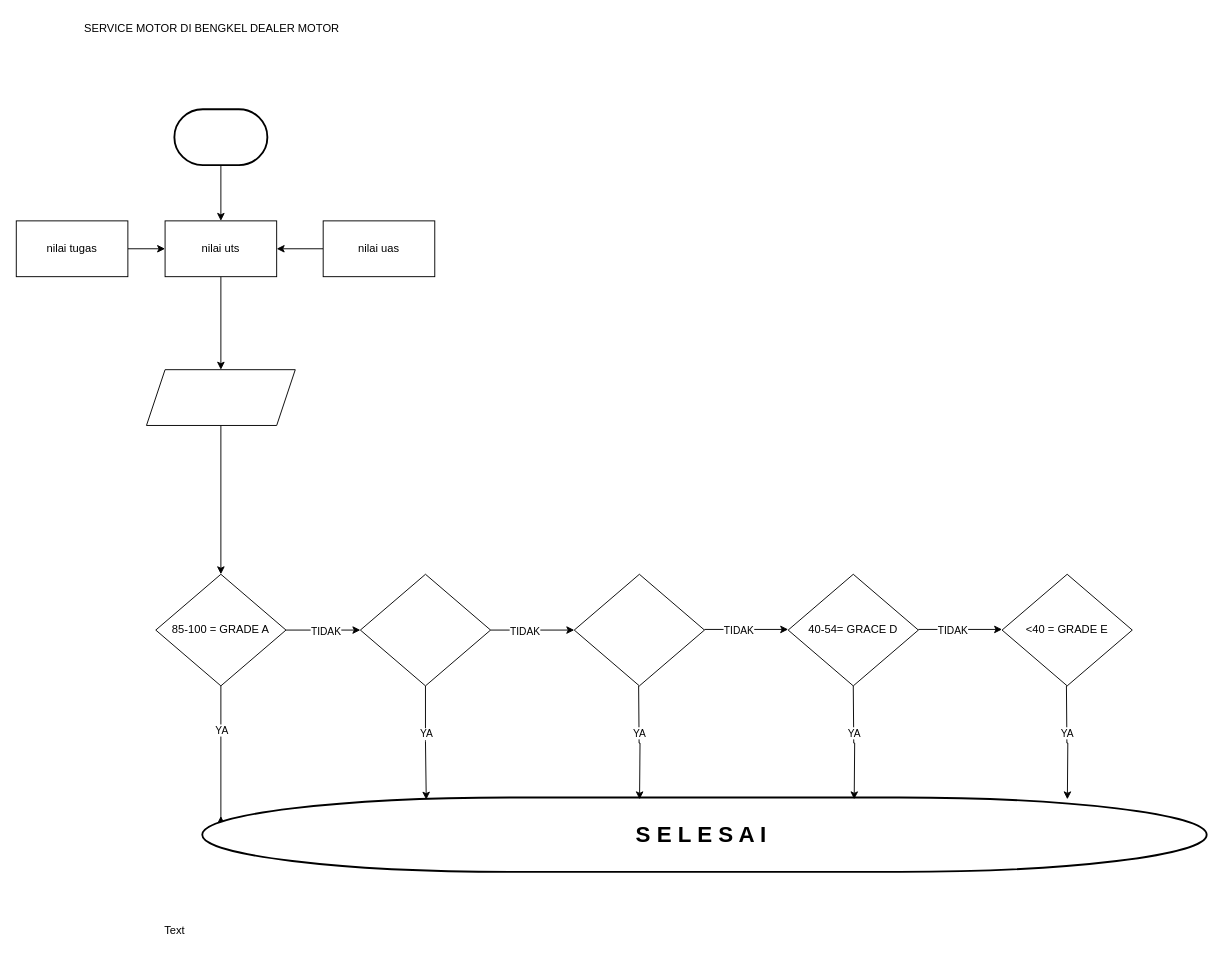
Image size: 1224x960. Some labels were removed from this diagram. Each missing label, with the centre of its shape:
"55-69= GRADE C" goes at [638,629].
"70-84= GRADE B" goes at [425,629].
"M U L A I" goes at [220,137].
"nilai akhir (nilai uas+nilai uts+nilai tugas)" goes at [220,397].
